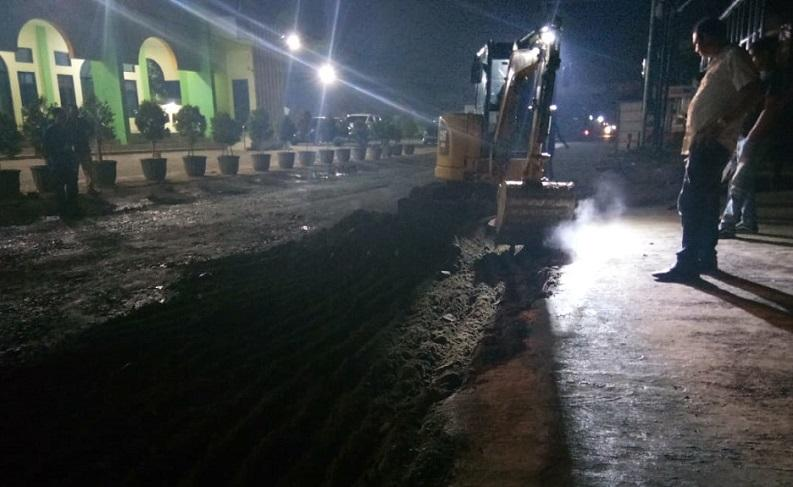Pothole: (0, 252, 753, 487)
